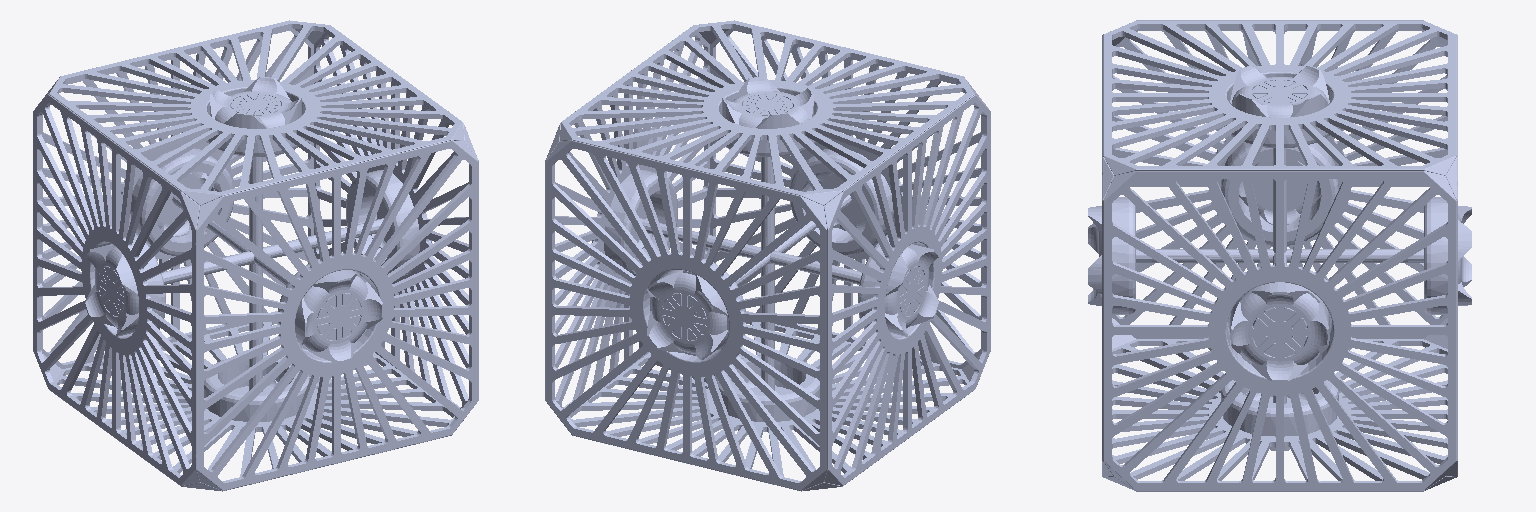
URDF robot description (srsmodule):
<?xml version="1.0" encoding="utf-8"?>
<!-- This URDF was automatically created by SolidWorks to URDF Exporter! Originally created by [author] ([email redacted]) 
     Commit Version: 1.6.0-4-g7f85cfe  Build Version: 1.6.7995.38578
     For more information, please see http://wiki.ros.org/sw_urdf_exporter -->
<robot
  name="srsmodule">
  <link
    name="base_link">
    <inertial>
      <origin
        xyz="2.7899E-08 2.227E-09 0.25"
        rpy="0 0 0" />
      <mass
        value="8.2669" />
      <inertia
        ixx="0.3773"
        ixy="1.1963E-09"
        ixz="-6.7069E-10"
        iyy="0.3773"
        iyz="-3.6899E-10"
        izz="0.3773" />
    </inertial>
    <visual>
      <origin
        xyz="0 0 0"
        rpy="0 0 0" />
      <geometry>
        <mesh
          filename="package://srsmodule/meshes/base_link.STL" />
      </geometry>
      <material
        name="">
        <color
          rgba="0.79216 0.81961 0.93333 1" />
      </material>
    </visual>
    <collision>
      <origin
        xyz="0 0 0"
        rpy="0 0 0" />
      <geometry>
        <mesh
          filename="package://srsmodule/meshes/base_link.STL" />
      </geometry>
    </collision>
  </link>
</robot>

--- Facts derived from the render (not from the file) ---
The picture shows the robot from 3 angles, left to right: view 1: azimuth 30°, elevation 25°; view 2: azimuth 150°, elevation 25°; view 3: azimuth 270°, elevation 25°; orthographic projection.
Model srsmodule with 1 links and 0 joints (none), rooted at base_link, posed all joints at 0.
Visible links, largest first — view 1: base_link; view 2: base_link; view 3: base_link.
Link boxes in pixels (<box>): base_link: <box>33,20,478,491</box>; base_link: <box>545,20,990,491</box>; base_link: <box>1088,20,1471,491</box>.
Size in the robot's own frame: 0.54 by 0.54 by 0.54 metres.
Meshes: 1 distinct files referenced, 1 mesh visuals loaded (1 binary STL).
